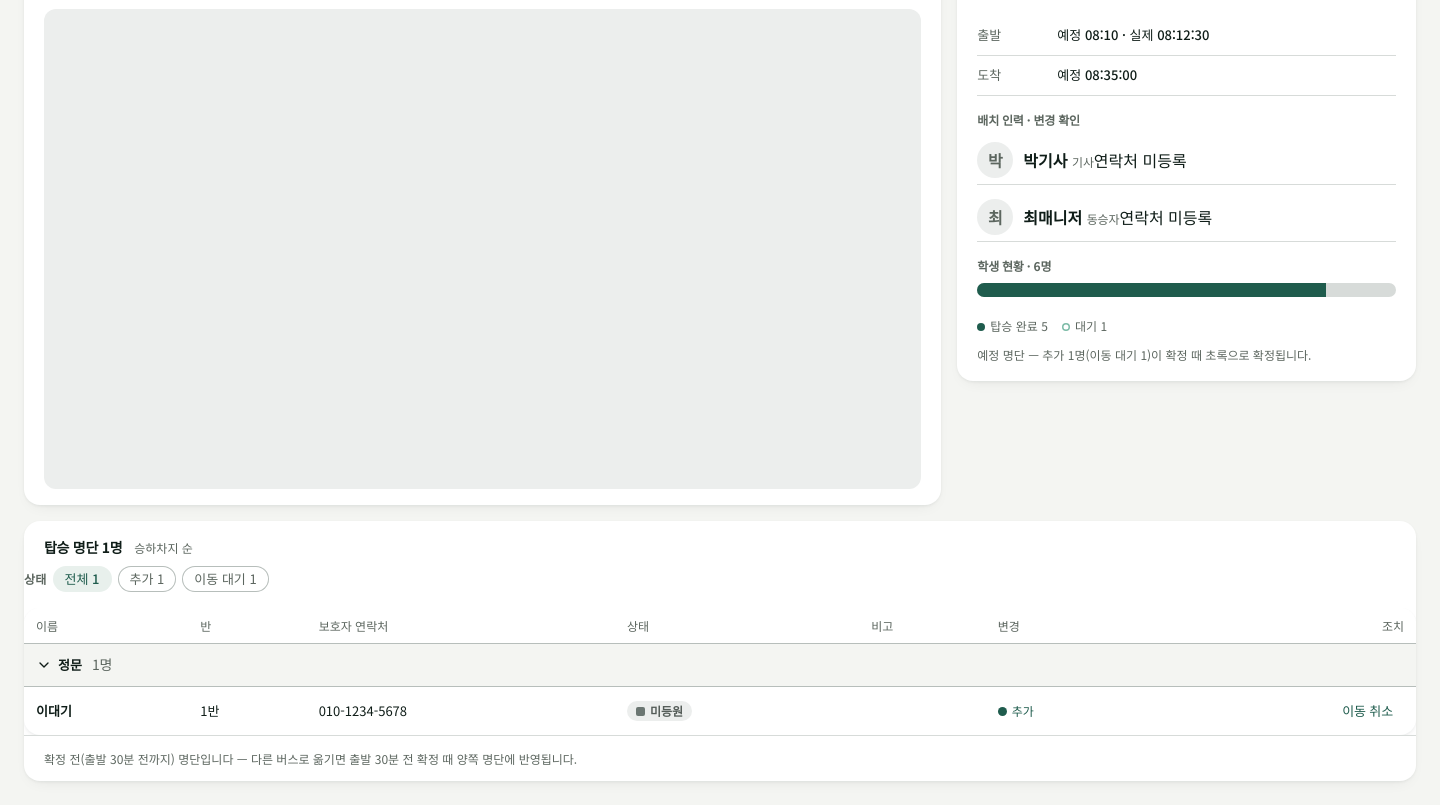
Test: TodayRunPage — 회차 선택·명단·결석 라벨 › 다른 버스로 이동(A-07) › 이동 취소(§5.8.1) › CHANGE_WINDOW_CLOSED 는 쉬운 한국어 문구를 보여주고 대화상자를 유지한다
The width and height of the screenshot is (1440, 805).
(page scrolled)
Click the button "이동 취소" at {"x": 1368, "y": 711}, box [1331,697,1404,725]
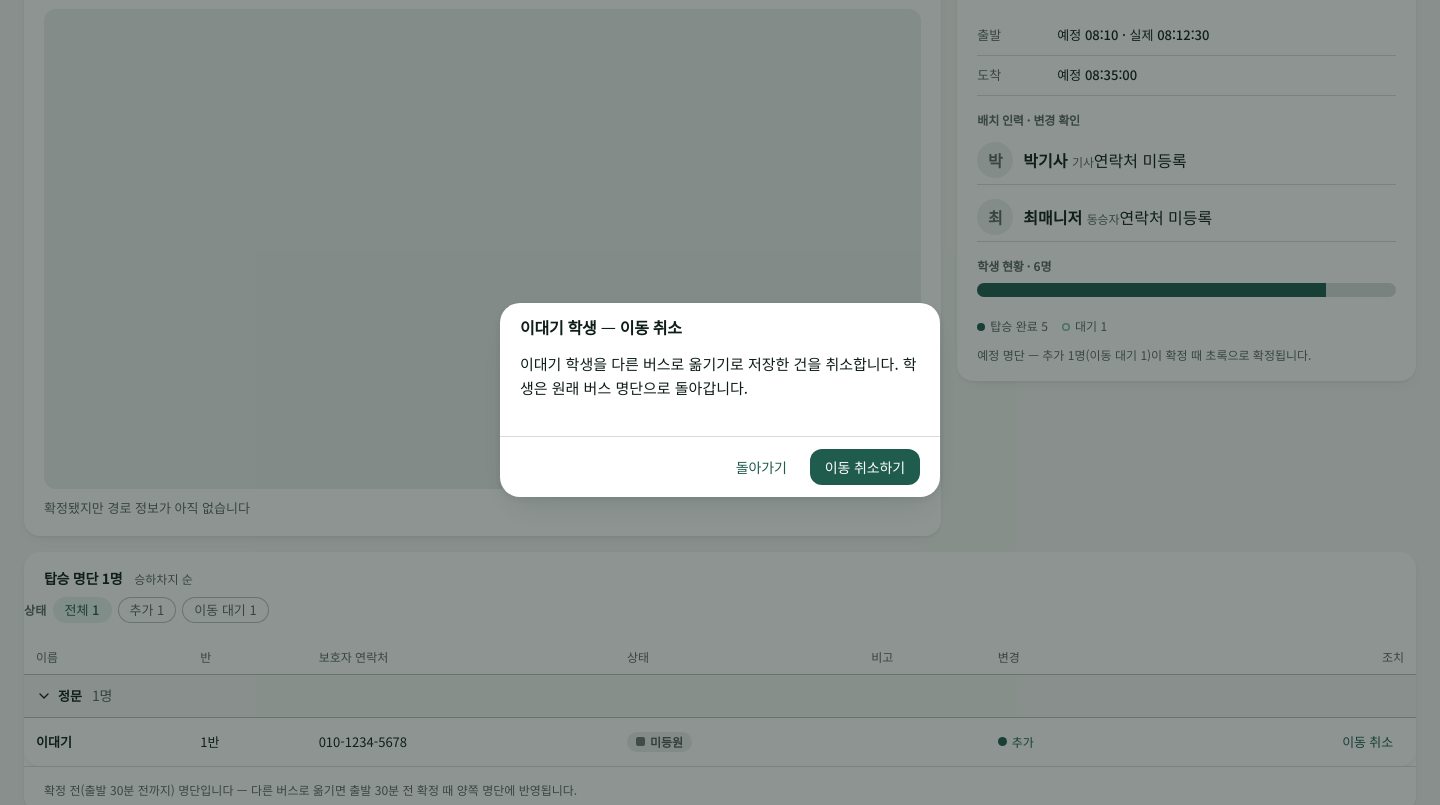
Click the button "이동 취소하기" at {"x": 865, "y": 467}, box [810,449,920,485]
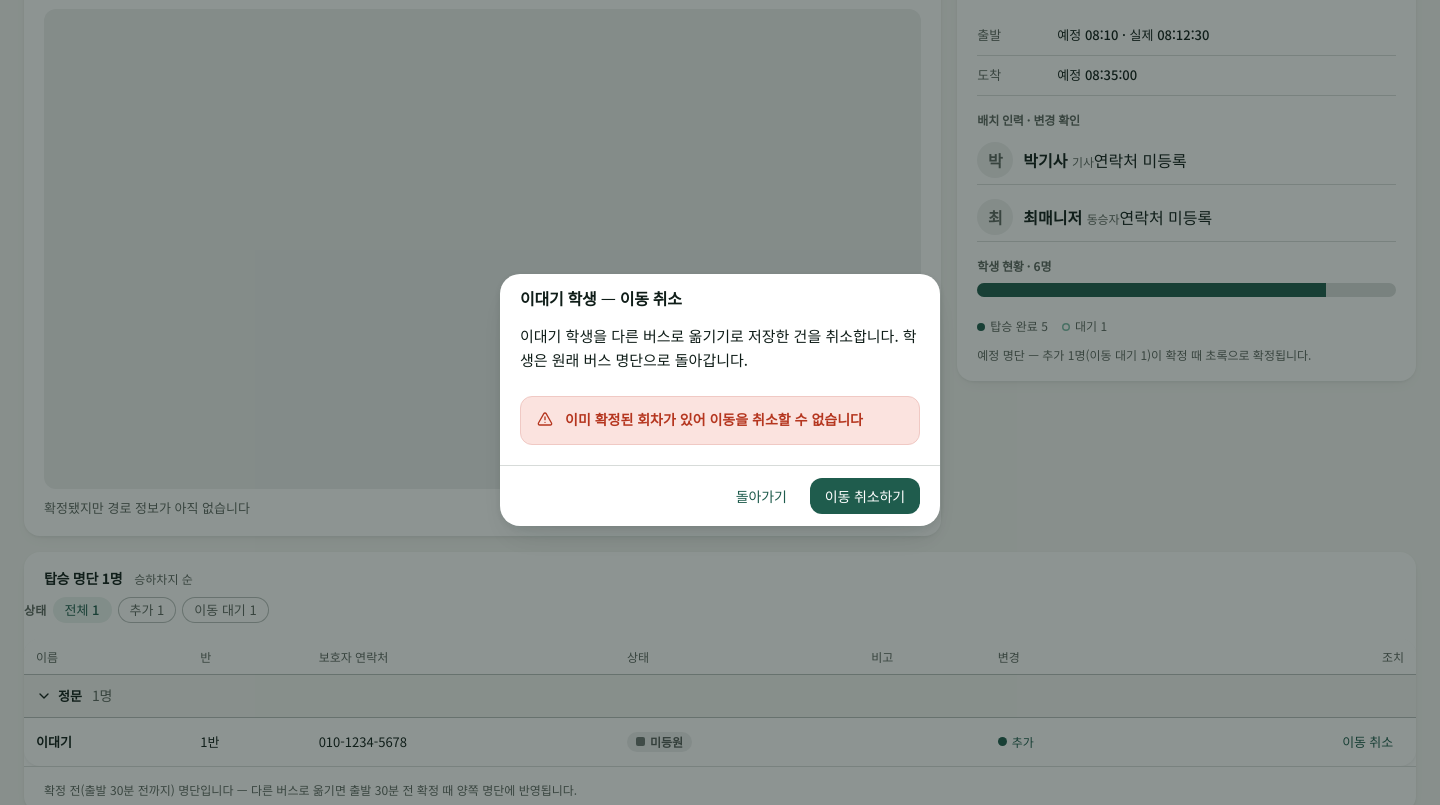
Expected: the text "이미 확정된 회차가 있어 이동을 취소할 수 없습니다" is shown, [565,409,903,430]
